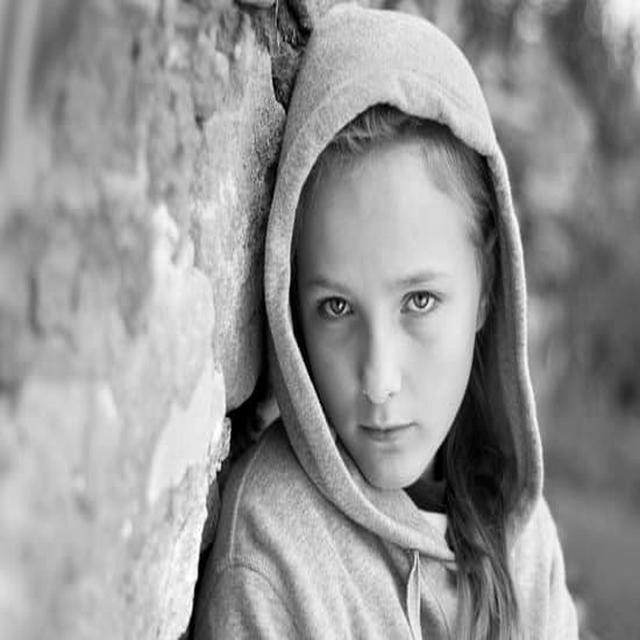Sadness: (303, 165, 464, 489)
